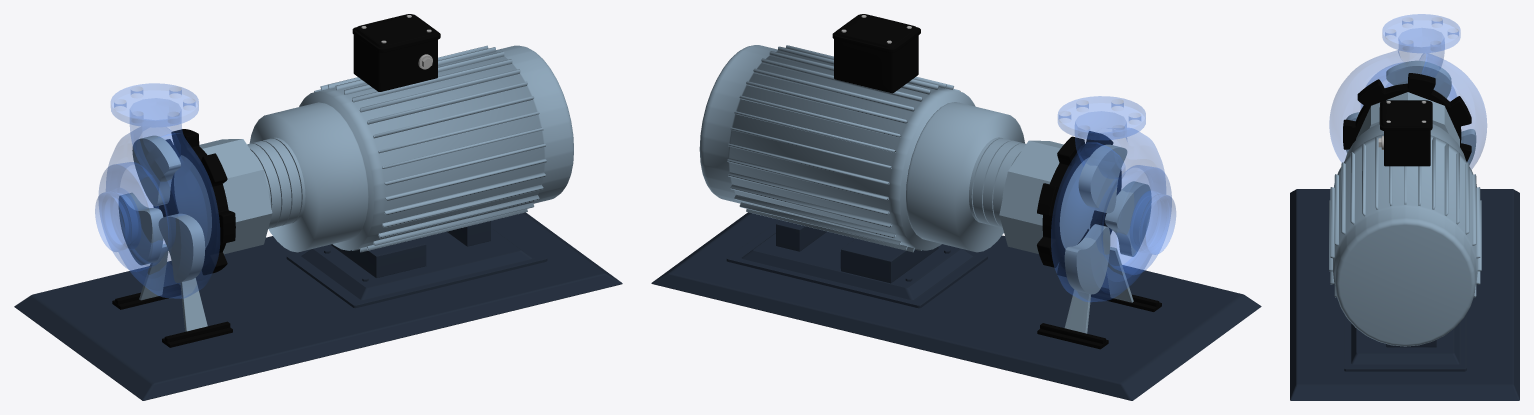
File: 冷冻泵.glb
3 views of the same model, side by side, from view 1: azimuth 30°, elevation 25°; view 2: azimuth 150°, elevation 25°; view 3: azimuth 270°, elevation 25° (orthographic). The views are drawn at different scales.
Parts seen in each view (by area): view 1: 立方体042, 柱体036, 柱体044, 柱体037, 立方体043, 柱体034, 立方体050, Gear001, 柱体035, 立方体047, 立方体049, 柱体044_1; view 2: 立方体042, 柱体036, 柱体044, 柱体037, 立方体043, 柱体034, 立方体050, Gear001, 柱体035, 立方体047, 立方体049, 柱体044_1; view 3: 立方体042, 柱体036, 柱体044, 立方体050, Gear001, 立方体043, 柱体034, 柱体037, 柱体044_1.
Boxes of the visible parts, x1=… form: 立方体042: x1=14, y1=212, x2=622, y2=400; 柱体036: x1=299, y1=45, x2=573, y2=252; 柱体044: x1=95, y1=83, x2=219, y2=298; 柱体037: x1=249, y1=102, x2=368, y2=252; 立方体043: x1=118, y1=135, x2=205, y2=282; 柱体034: x1=174, y1=139, x2=272, y2=254; 立方体050: x1=352, y1=14, x2=440, y2=91; Gear001: x1=153, y1=129, x2=235, y2=275; 柱体035: x1=247, y1=137, x2=305, y2=228; 立方体047: x1=180, y1=278, x2=207, y2=331; 立方体049: x1=139, y1=244, x2=168, y2=300; 柱体044_1: x1=114, y1=87, x2=195, y2=123; 立方体042: x1=651, y1=212, x2=1261, y2=400; 柱体036: x1=699, y1=45, x2=975, y2=252; 柱体044: x1=1051, y1=96, x2=1175, y2=301; 柱体037: x1=906, y1=102, x2=1024, y2=252; 立方体043: x1=1064, y1=144, x2=1151, y2=294; 柱体034: x1=999, y1=140, x2=1094, y2=253; 立方体050: x1=832, y1=14, x2=920, y2=93; Gear001: x1=1037, y1=131, x2=1121, y2=277; 柱体035: x1=969, y1=137, x2=1025, y2=227; 立方体047: x1=1107, y1=247, x2=1133, y2=302; 立方体049: x1=1064, y1=289, x2=1091, y2=333; 柱体044_1: x1=1059, y1=99, x2=1140, y2=136; 立方体042: x1=1290, y1=189, x2=1519, y2=400; 柱体036: x1=1329, y1=134, x2=1481, y2=346; 柱体044: x1=1329, y1=14, x2=1486, y2=169; 立方体050: x1=1379, y1=100, x2=1432, y2=166; Gear001: x1=1343, y1=73, x2=1471, y2=161; 立方体043: x1=1346, y1=60, x2=1476, y2=164; 柱体034: x1=1356, y1=92, x2=1459, y2=146; 柱体037: x1=1345, y1=123, x2=1465, y2=159; 柱体044_1: x1=1385, y1=17, x2=1458, y2=50.
Bounding box in the file's own units: 94.14 × 46.26 × 43.89.
